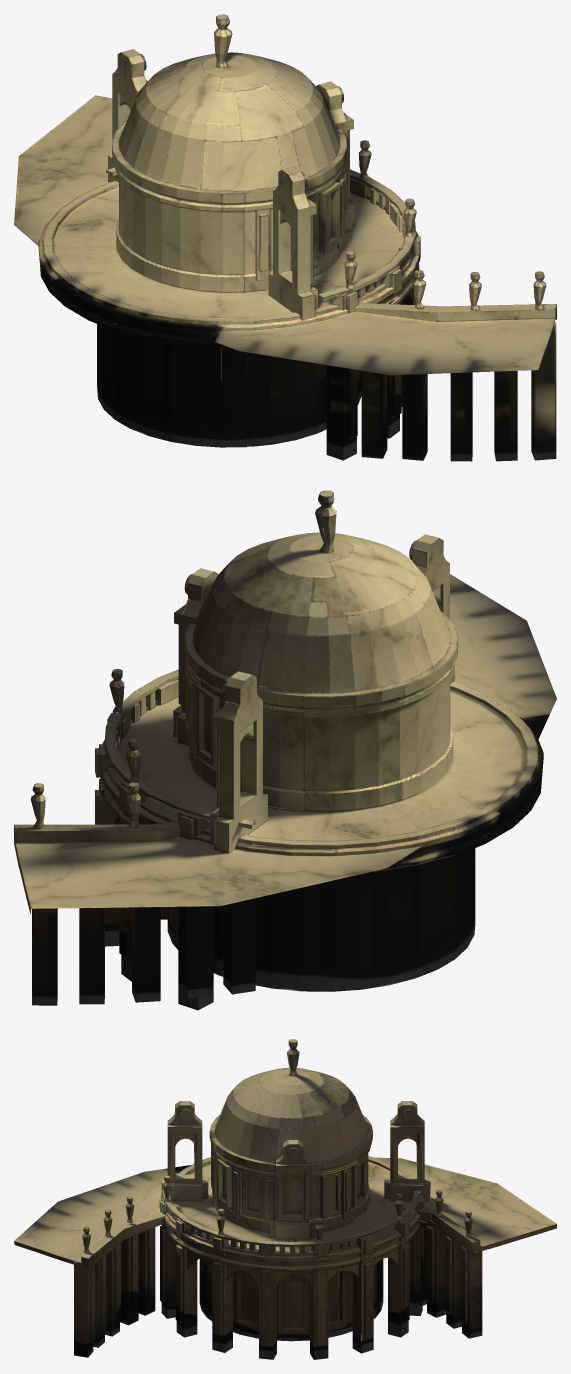
File: colera2finalPalace.glb
3 renders of one model, top to bottom at view 1: azimuth 30°, elevation 25°; view 2: azimuth 150°, elevation 25°; view 3: azimuth 270°, elevation 25°, orthographic. The views are drawn at different scales.
Parts seen in each view (by area): view 1: Cube.534; view 2: Cube.534; view 3: Cube.534.
Part boxes in pixels (x1,y1,x2,y2): Cube.534: [14, 14, 556, 461]; Cube.534: [14, 490, 556, 1010]; Cube.534: [14, 1039, 556, 1359].
Bounding box in the file's own units: 105 × 110 × 206.
Materials: 1 (1 with a texture image).
